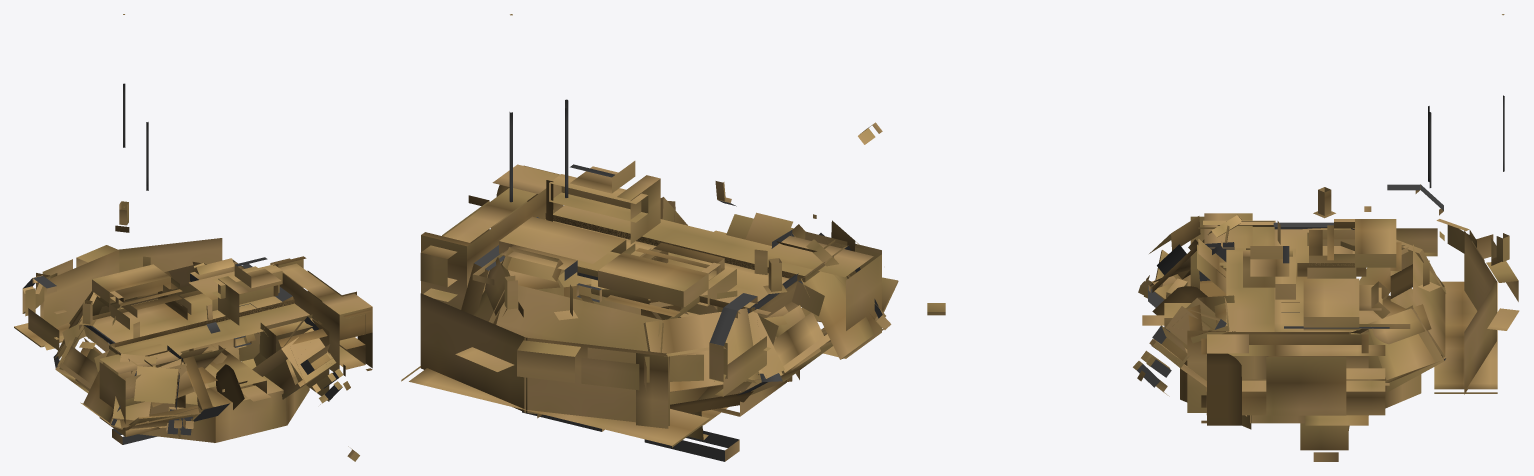
The model's file is m2_turret.obj.
3 views of the same model, side by side, from view 1: azimuth 30°, elevation 25°; view 2: azimuth 150°, elevation 25°; view 3: azimuth 270°, elevation 25° (orthographic). The views are drawn at different scales.
Visible parts, largest first — view 1: turret, gun; view 2: turret, gun; view 3: turret, gun.
Boxes of the visible parts, x1,y1,x2,y2 form: turret: (14,14,372,444); gun: (180,347,359,461); turret: (401,14,898,461); gun: (745,122,882,283); turret: (1133,14,1519,461); gun: (927,239,1226,325).
Bounding box in the file's own units: 3.36 × 4.11 × 5.36.
